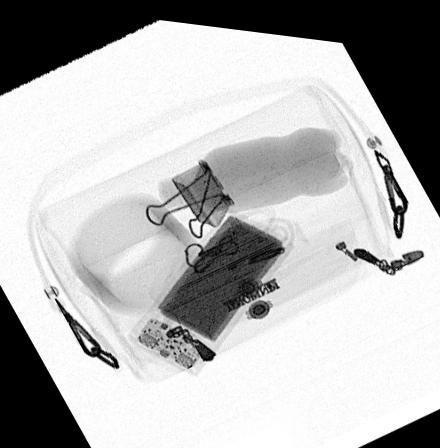Powerbank: (128, 202, 293, 371)
